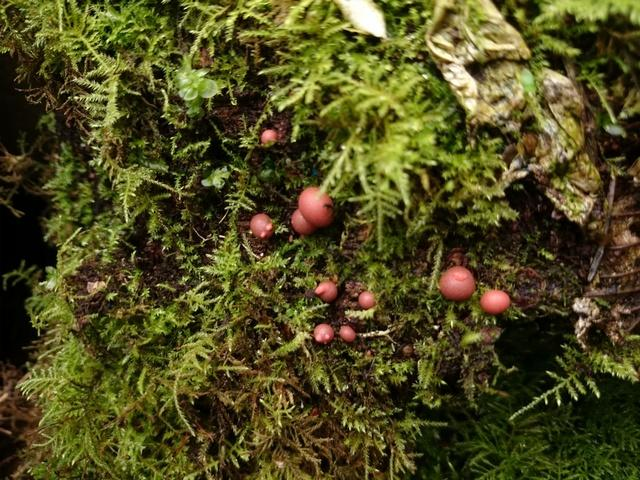Non-edible Mushroom: (297, 185, 334, 226), (438, 265, 475, 301), (479, 288, 510, 315), (248, 212, 274, 239), (290, 208, 315, 235), (313, 279, 337, 302), (312, 322, 334, 344), (357, 289, 376, 309), (338, 324, 356, 342), (259, 128, 278, 145)
